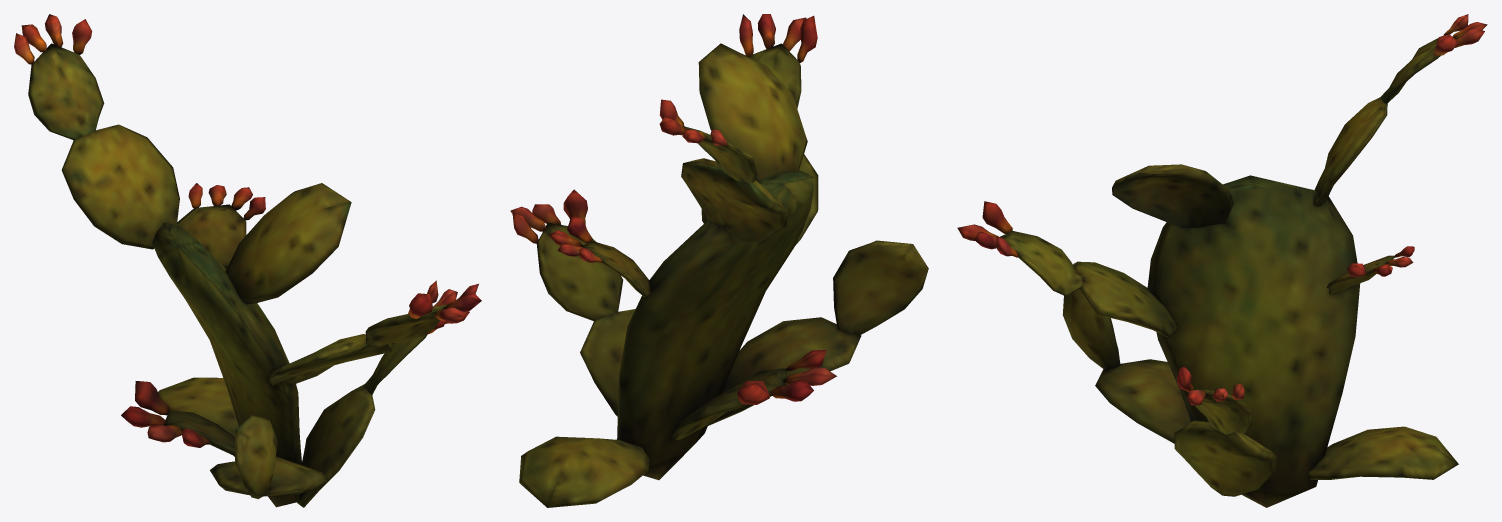
Rendered from Model_Cactus_Flower.fbx.
The picture shows the model from 3 angles, left to right: view 1: azimuth 30°, elevation 25°; view 2: azimuth 150°, elevation 25°; view 3: azimuth 270°, elevation 25°; orthographic projection. The views are drawn at different scales.
Parts seen in each view (by area): view 1: Cactus_Flower; view 2: Cactus_Flower; view 3: Cactus_Flower.
Part boxes in pixels (box(x1,y1,x2,y2)): Cactus_Flower: box(14, 14, 481, 507); Cactus_Flower: box(510, 14, 928, 507); Cactus_Flower: box(957, 14, 1487, 507).
Bounding box in the file's own units: 68.24 × 88.39 × 99.39.
